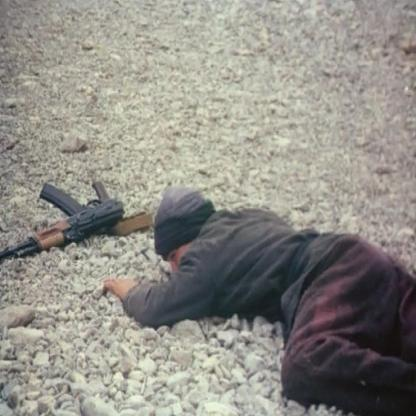gun: (0, 140, 156, 269)
